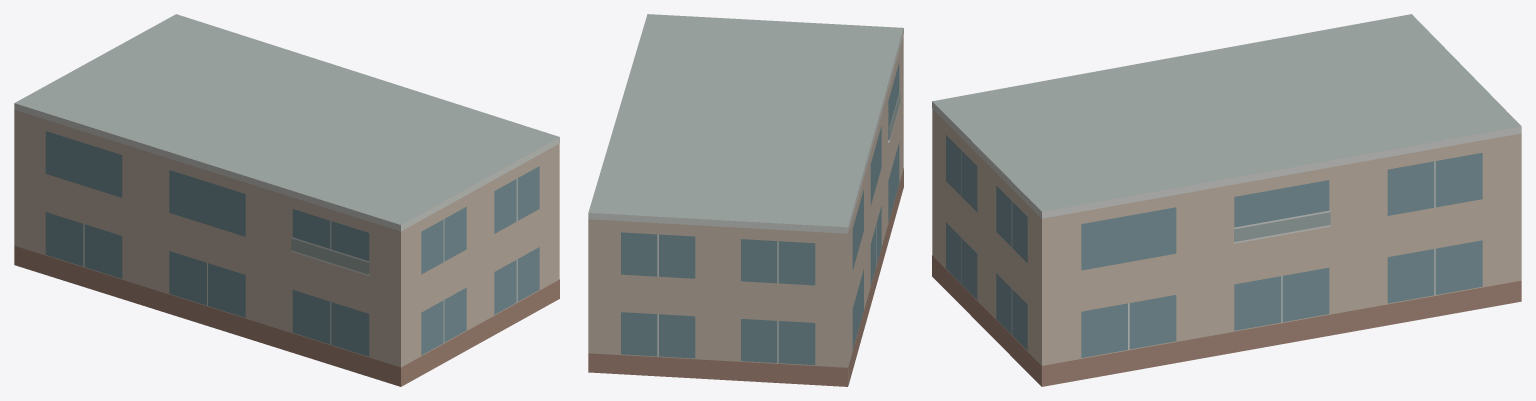
File: survey-upis-33024245.glb
3 views of the same model, side by side, from view 1: azimuth 30°, elevation 25°; view 2: azimuth 150°, elevation 25°; view 3: azimuth 270°, elevation 25° (orthographic). The views are drawn at different scales.
Parts seen in each view (by area): view 1: survey-upis-33024245.tmp; view 2: survey-upis-33024245.tmp; view 3: survey-upis-33024245.tmp.
Boxes of the visible parts, x1=… form: survey-upis-33024245.tmp: x1=14, y1=14, x2=559, y2=386; survey-upis-33024245.tmp: x1=588, y1=14, x2=903, y2=386; survey-upis-33024245.tmp: x1=932, y1=14, x2=1521, y2=386.
Size of the model in its own units: 14.78 by 6.1 by 18.62.
